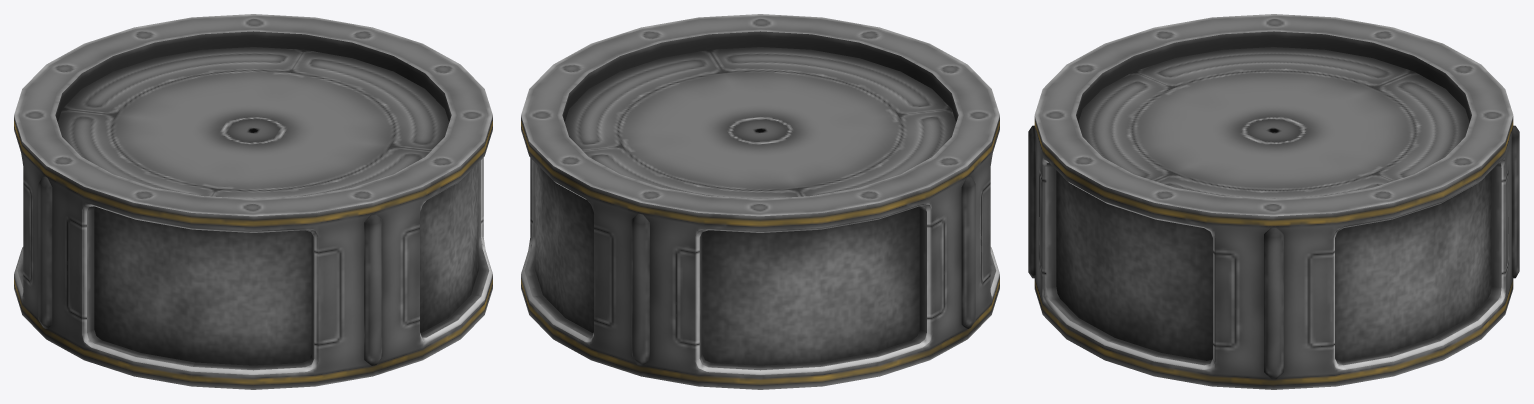
File: bluedog_Xenon_MediumStack.fbx
The picture shows the model from 3 angles, left to right: view 1: azimuth 30°, elevation 25°; view 2: azimuth 150°, elevation 25°; view 3: azimuth 270°, elevation 25°; orthographic projection.
Parts seen in each view (by area): view 1: Xenon_StackMedium; view 2: Xenon_StackMedium; view 3: Xenon_StackMedium.
Boxes of the visible parts, x1,y1,x2,y2 form: Xenon_StackMedium: (14, 14, 492, 389); Xenon_StackMedium: (521, 14, 999, 389); Xenon_StackMedium: (1028, 14, 1519, 389).
Size of the model in its own units: 0.6415 by 0.25 by 0.6415.
Materials: 1 (1 with a texture image).
